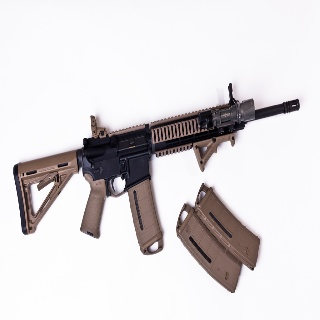rifle: (11, 81, 301, 258)
